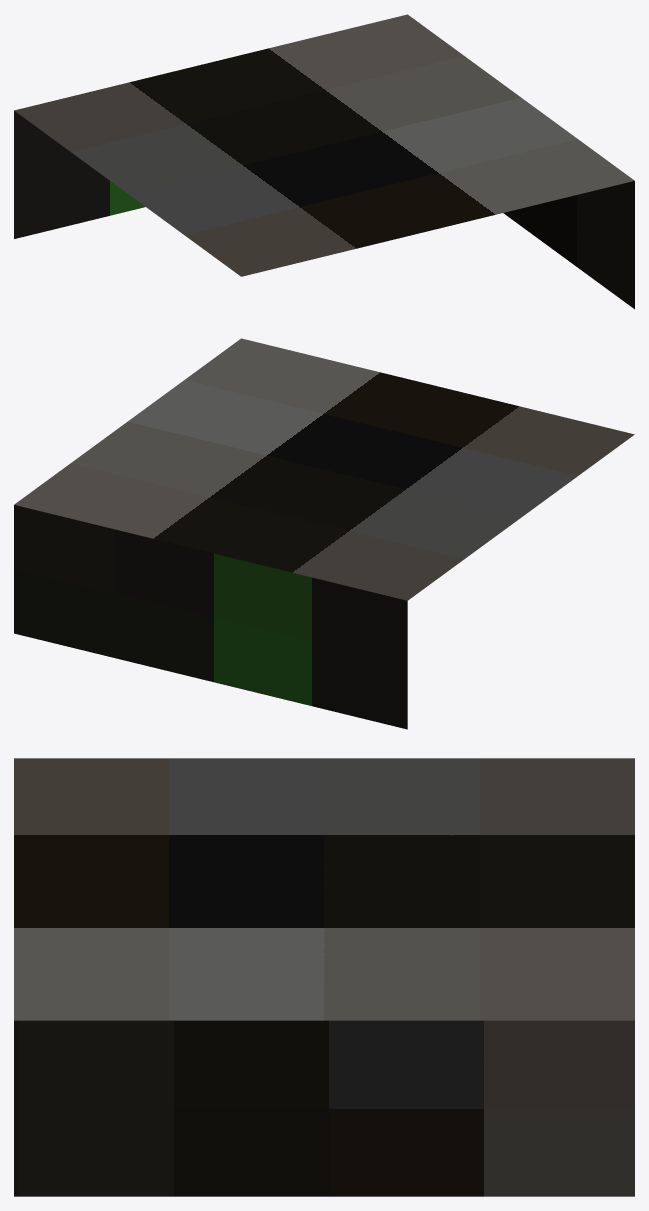
The model's file is map2.glb.
3 views of the same model, one above another, from view 1: azimuth 30°, elevation 25°; view 2: azimuth 150°, elevation 25°; view 3: azimuth 270°, elevation 25° (orthographic). The views are drawn at different scales.
Parts seen in each view (by area): view 1: floor.002; view 2: floor.002; view 3: floor.002.
Part boxes in pixels (x1,y1,x2,y2): floor.002: [14, 14, 634, 309]; floor.002: [14, 338, 634, 729]; floor.002: [14, 758, 634, 1196].
Size of the model in its own units: 8 by 2.5 by 8.
1 material, 1 textured.
